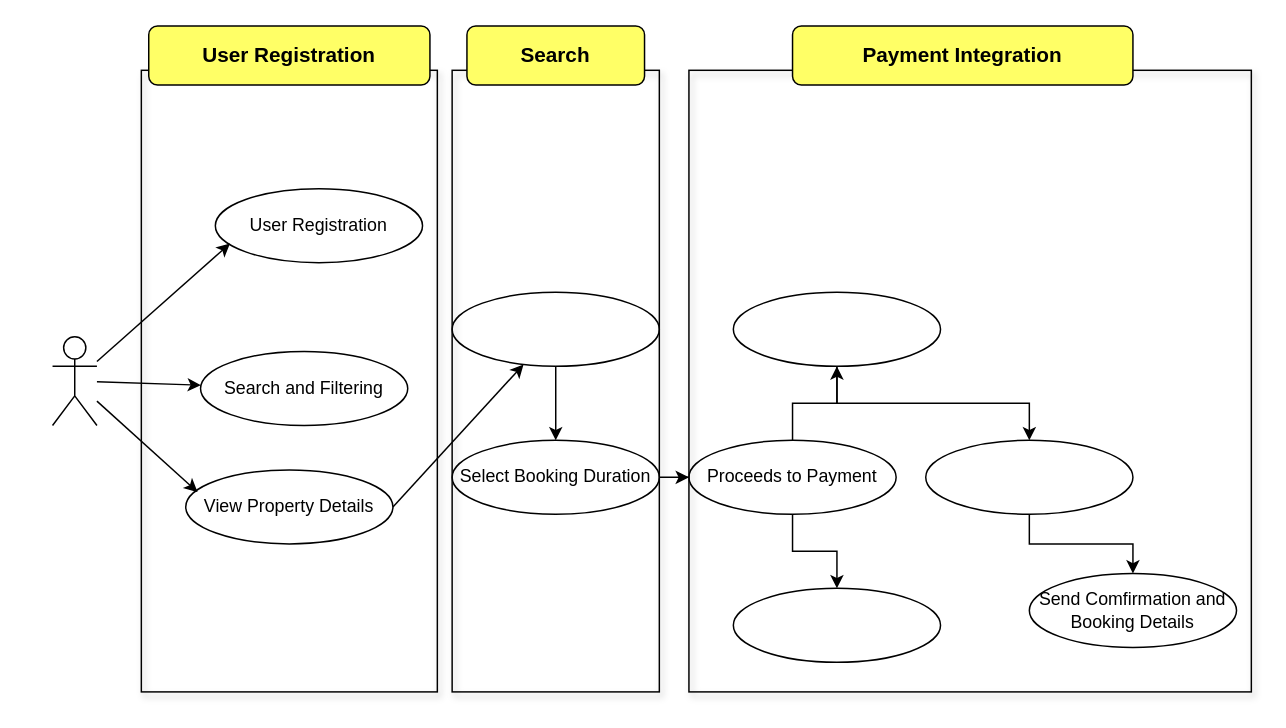
Some shapes in this 1286 by 728 pixel diagram are drawn without their labels. Each missing label, with the centre of its shape:
"Booking Confirmed" belongs at point 1028,476.
"Payment Rejected" belongs at point 836,624.
"Payments Accepted" belongs at point 836,328.
"User / Guest" belongs at point 74,380.
"View Details and Payment Details" belongs at point 555,328.
